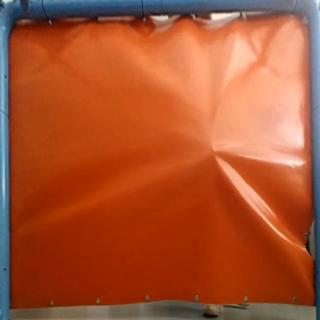Hit-hRxx: (206, 144, 222, 158)
